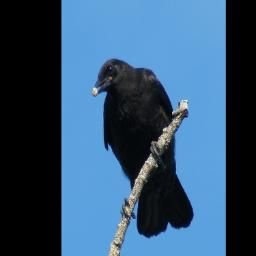Crow: (91, 57, 195, 240)
